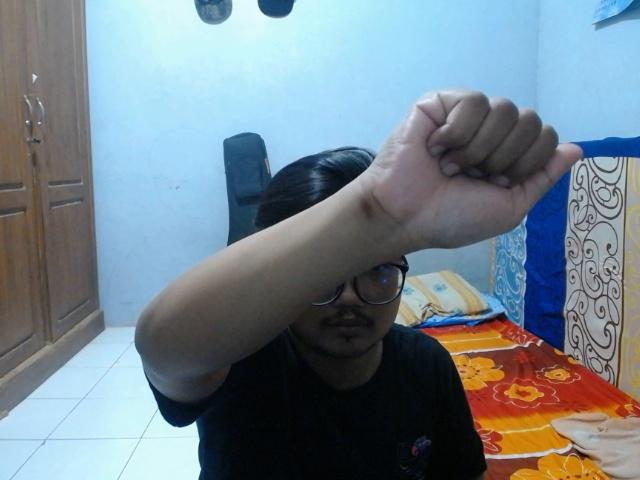Grab: (366, 83, 588, 251)
